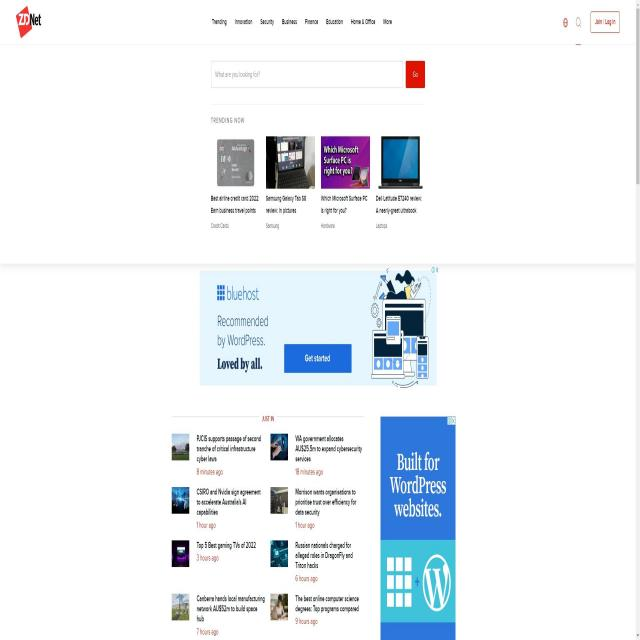button: (284, 344, 352, 373), (406, 59, 426, 88), (591, 12, 620, 32), (573, 12, 583, 34), (562, 13, 570, 33)
input: (210, 59, 402, 88)
